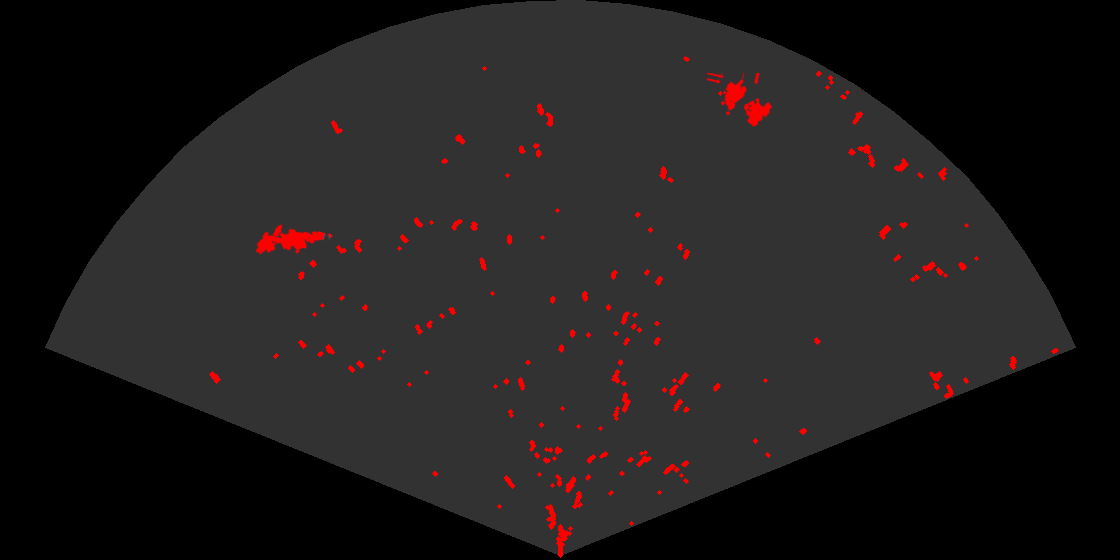AUV: (254, 223, 284, 256)
cage: (707, 73, 774, 128)
frogman: (272, 227, 334, 256)
